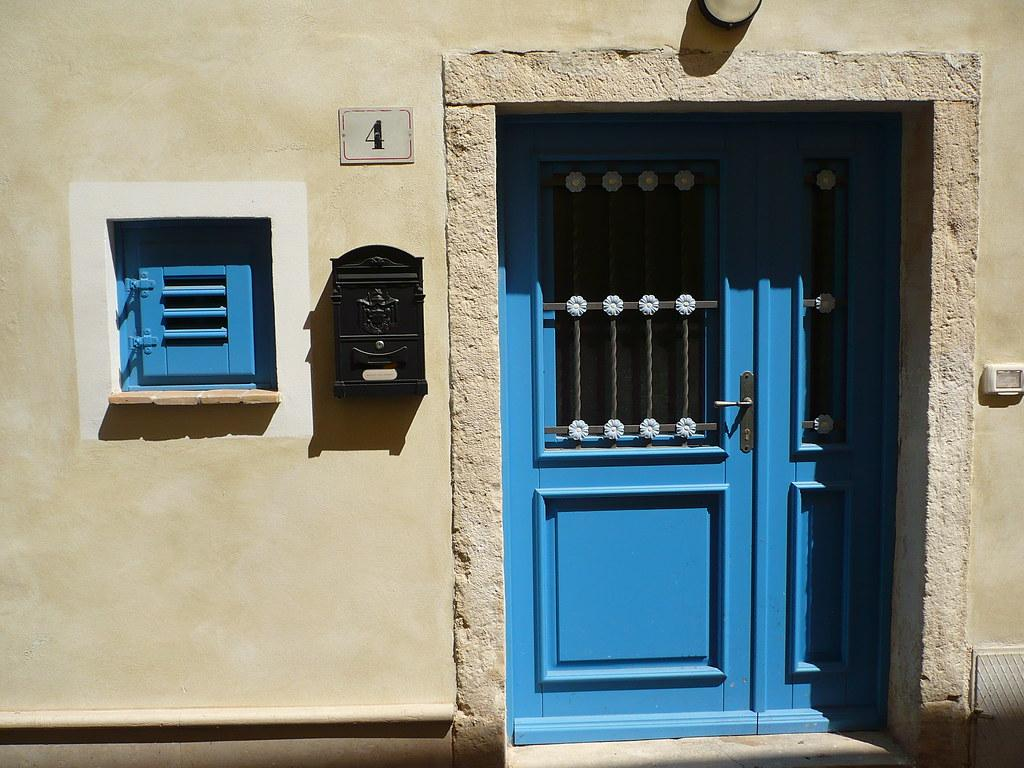door: (498, 109, 902, 745)
